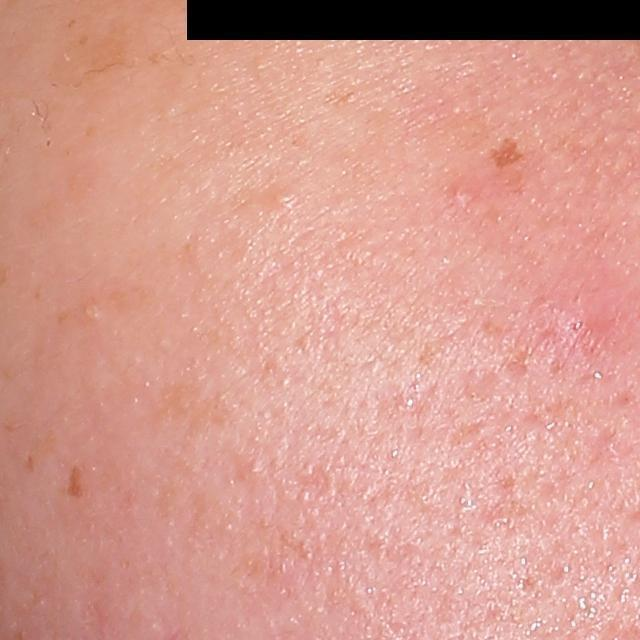comedo: (275, 188, 300, 211), (79, 300, 104, 321)
melasma: (59, 457, 90, 508), (486, 134, 527, 171)
